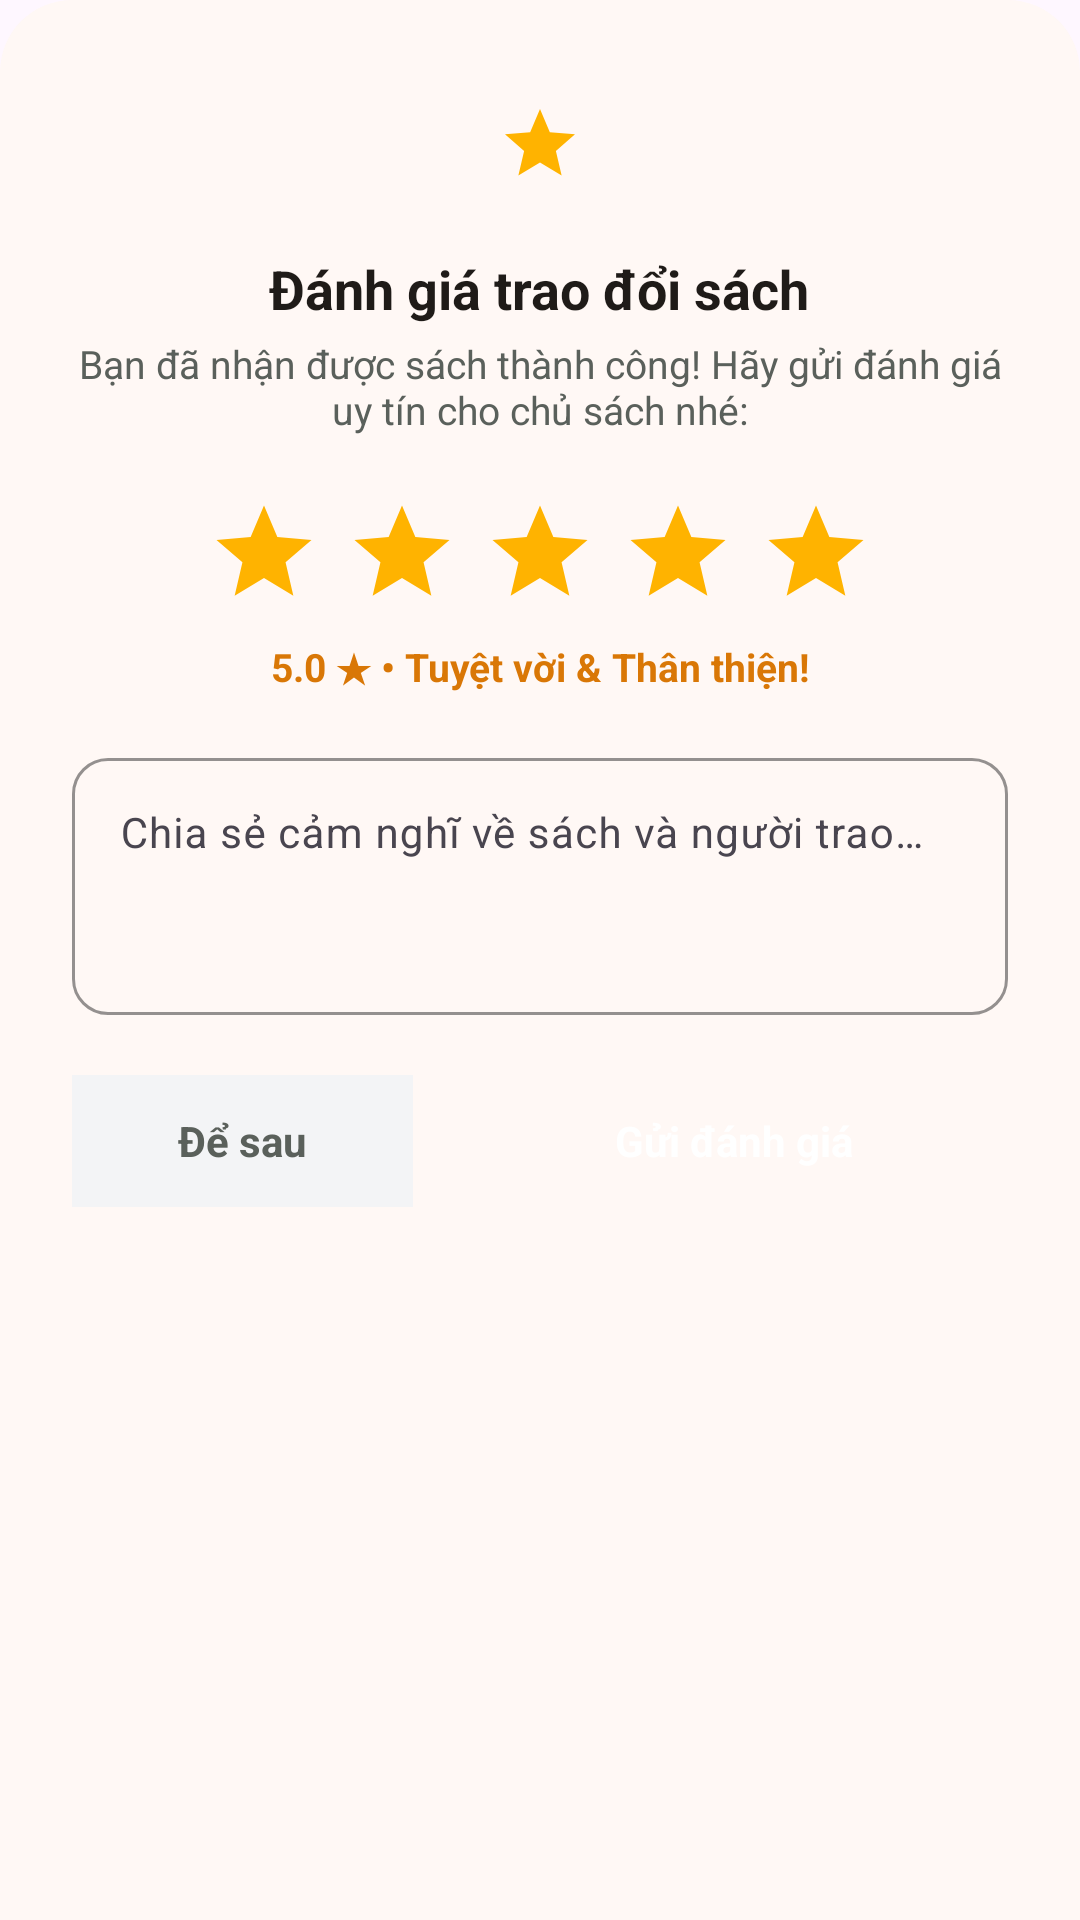

Named icons in this screenshot (1080 x 1920) and their bounding boxes, (x1, y1, x2, y2):
1 sao: (216, 506, 312, 596)
star: (505, 109, 575, 176)
